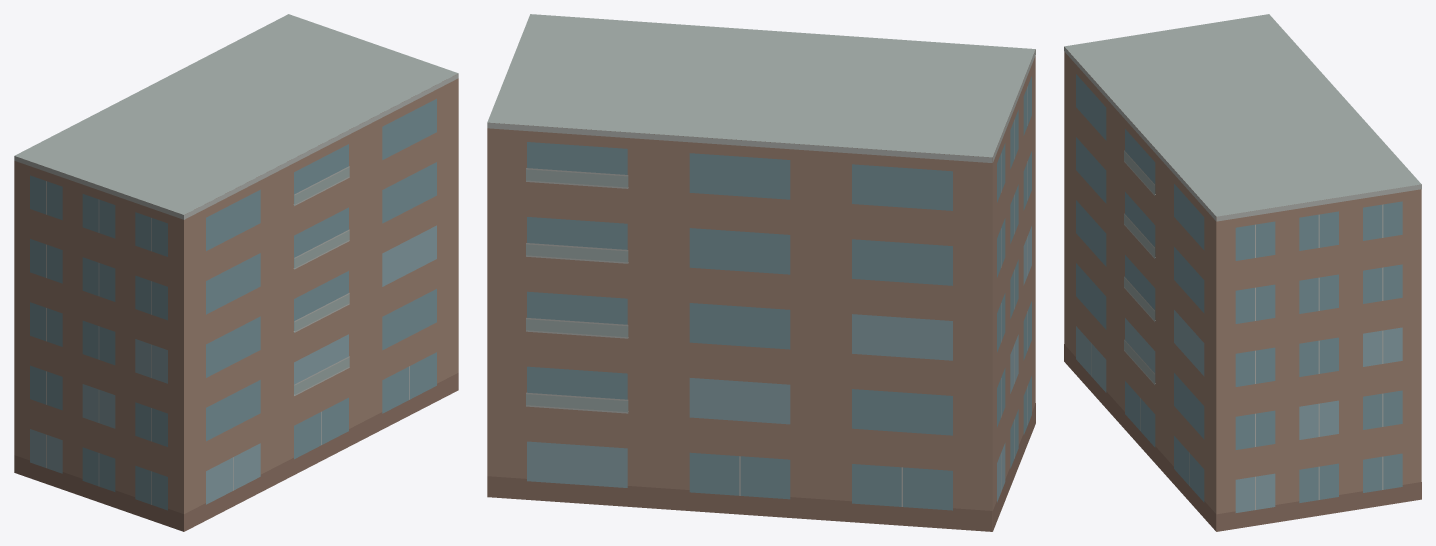
The model's file is survey-upis-32832220.glb.
3 renders of one model, left to right at view 1: azimuth 30°, elevation 25°; view 2: azimuth 150°, elevation 25°; view 3: azimuth 270°, elevation 25°, orthographic. The views are drawn at different scales.
Visible parts, largest first — view 1: survey-upis-32832220.tmp; view 2: survey-upis-32832220.tmp; view 3: survey-upis-32832220.tmp.
Part boxes in pixels (<box>): survey-upis-32832220.tmp: <box>14,14,458,531</box>; survey-upis-32832220.tmp: <box>487,14,1035,531</box>; survey-upis-32832220.tmp: <box>1064,14,1421,531</box>.
Bounding box in the file's own units: 21.95 × 15.9 × 16.36.
